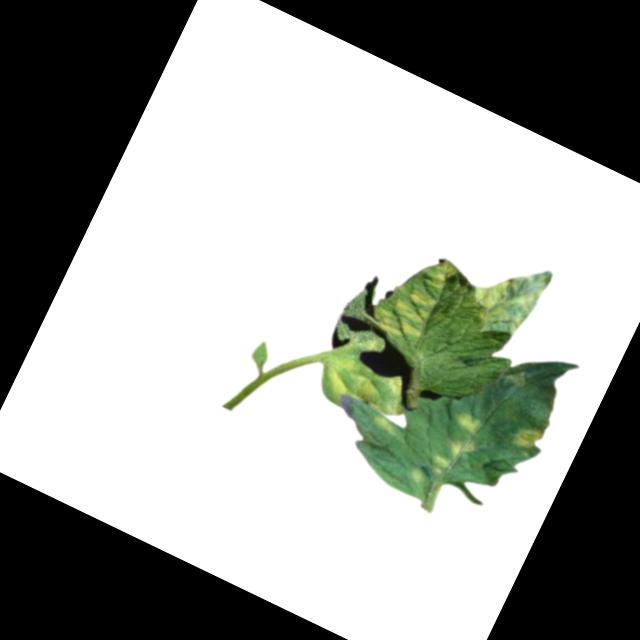Leaf_Mold: (364, 240, 457, 348), (308, 344, 416, 437), (459, 241, 554, 344), (409, 402, 487, 502), (508, 416, 546, 454)
